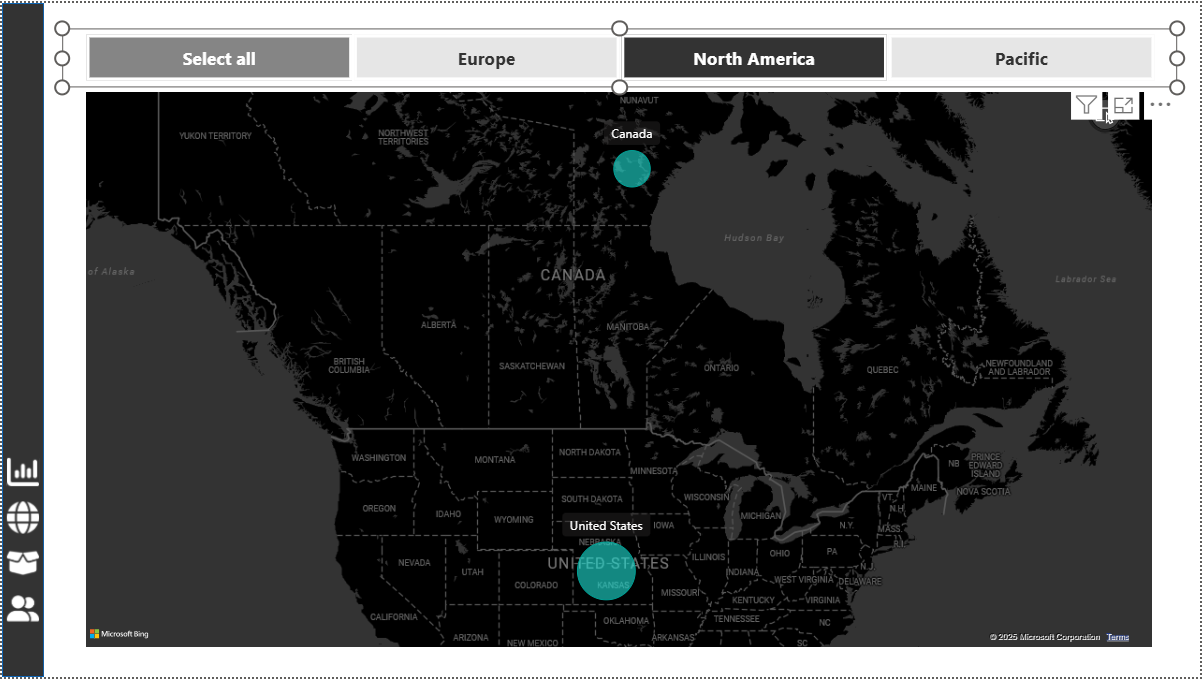

The page's visual inventory and layout, read from the dashboard file:
{"tool":"powerbi","page":{"name":"Map","canvas":[1280,720],"ordinal":1},"visuals":[{"type":"shape","box":[0,0,45,719.9],"z":0},{"type":"actionButton","box":[1.3,527.9,62.3,42.4],"z":0,"group":"g1"},{"type":"map","fields":{"Category":["Territory Lookup.Country"],"Size":["Measure Table.Total Orders"]},"box":[84.8,90.1,1149.4,603.2],"z":1000},{"type":"actionButton","box":[1.3,576.5,62.3,42.4],"z":1000,"group":"g1"},{"type":"slicer","fields":{"Values":["Territory Lookup.Continent"]},"box":[65,27.8,1190.5,62.3],"z":2000},{"type":"actionButton","box":[1.3,625.1,62.3,42.4],"z":2000,"group":"g1"},{"type":"group","id":"g1","title":"Navigation Buttons","box":[1.3,479.3,62.3,188.2],"z":3000},{"type":"actionButton","box":[1.3,479.3,62.3,42.4],"z":3000,"group":"g1"}]}

Visuals, with their boxes in screenshot pixels (x1, y1, x2, y2):
shape: {"left": 0, "top": 3, "right": 42, "bottom": 670}
actionButton: {"left": 1, "top": 492, "right": 59, "bottom": 531}
map - Territory Lookup.Country x Measure Table.Total Orders: {"left": 79, "top": 87, "right": 1143, "bottom": 645}
actionButton: {"left": 1, "top": 537, "right": 59, "bottom": 576}
slicer - Territory Lookup.Continent: {"left": 60, "top": 29, "right": 1163, "bottom": 87}
actionButton: {"left": 1, "top": 582, "right": 59, "bottom": 621}
"Navigation Buttons" group: {"left": 1, "top": 447, "right": 59, "bottom": 621}
actionButton: {"left": 1, "top": 447, "right": 59, "bottom": 486}
